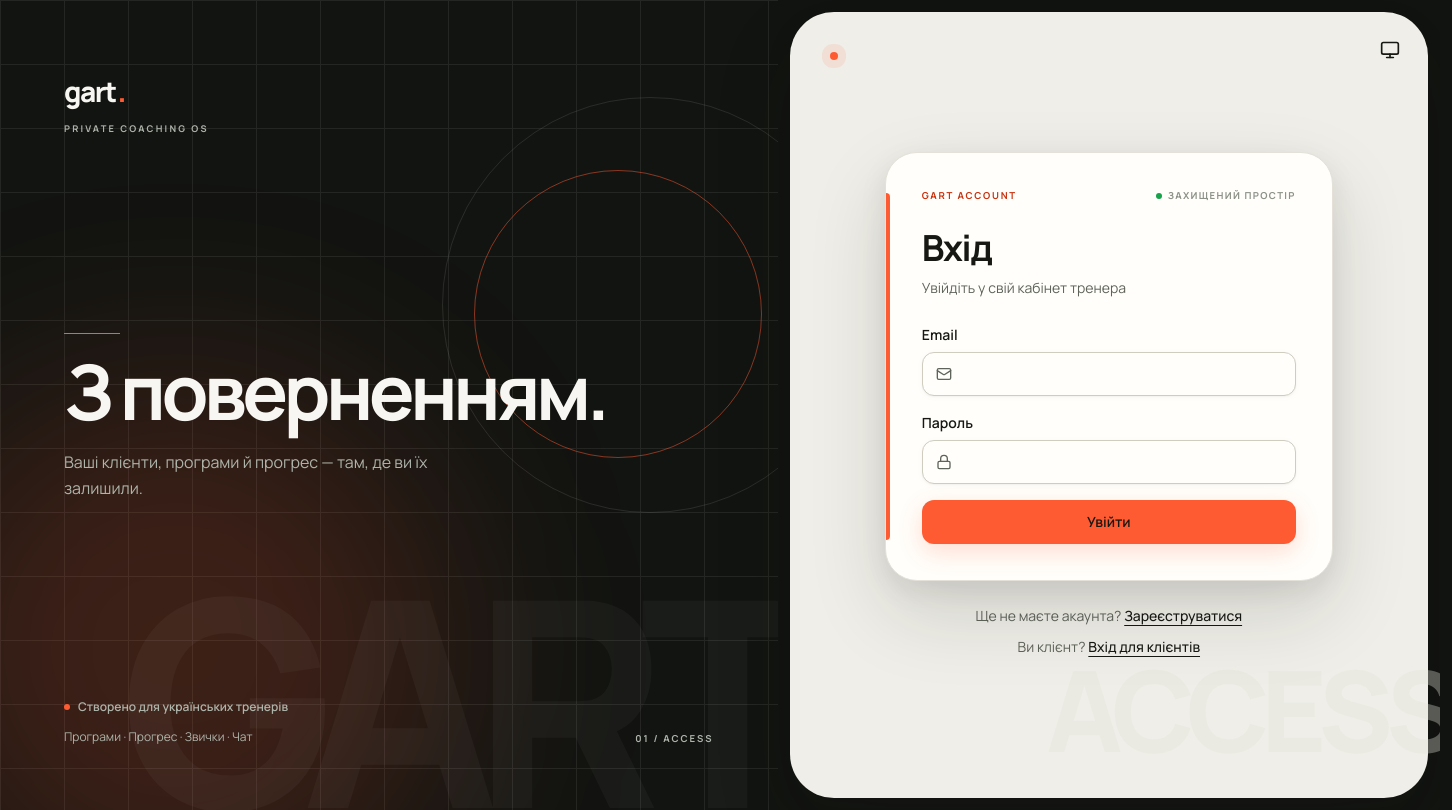
Test case: auth screens › shows the API's own message when the failure is an ApiError
Type "demo@gart.fit" into the field labelled "Email" at (1109, 374), box [922,352,1296,396]
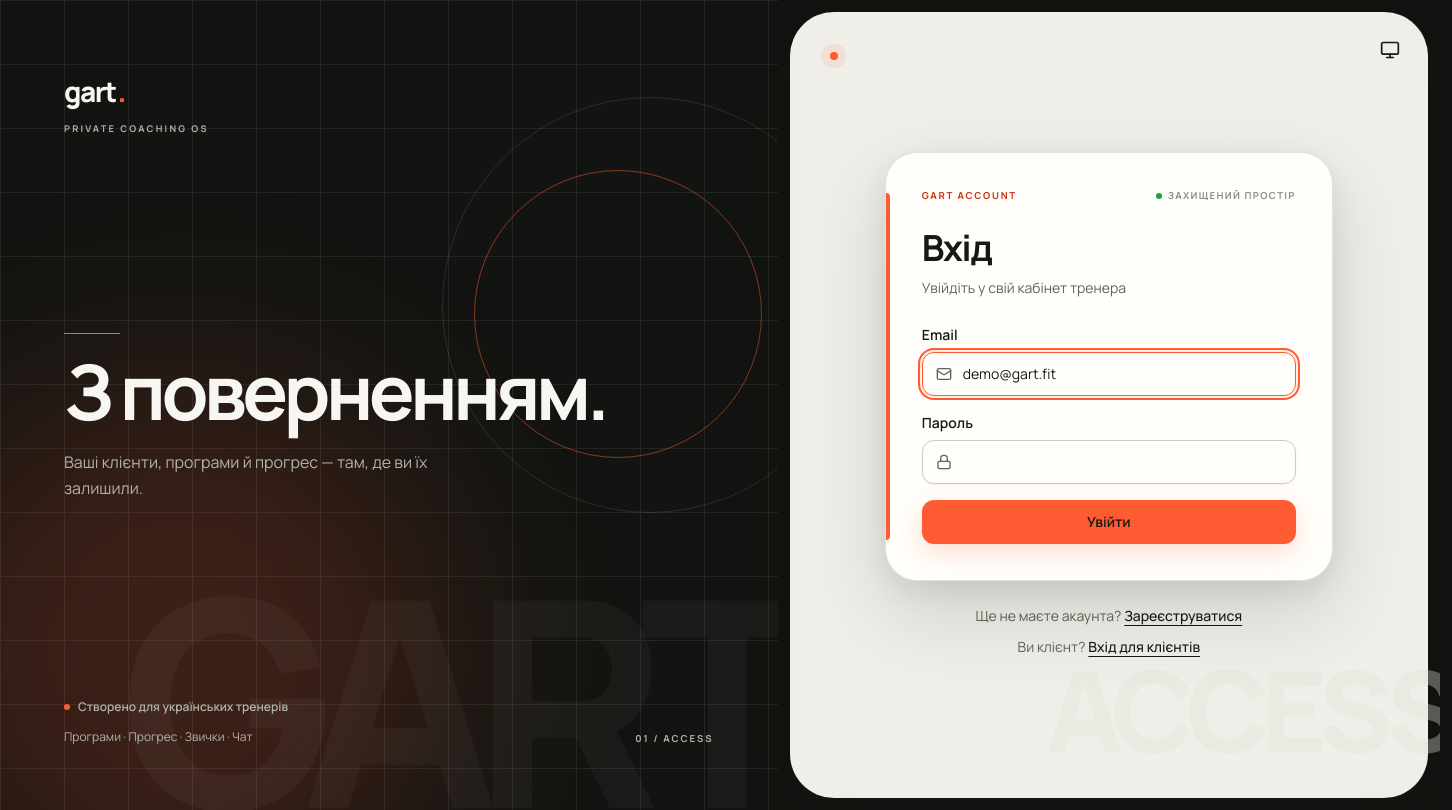
Type "demo12345" into the password field labelled "Пароль" at (1109, 462), box [922,440,1296,484]
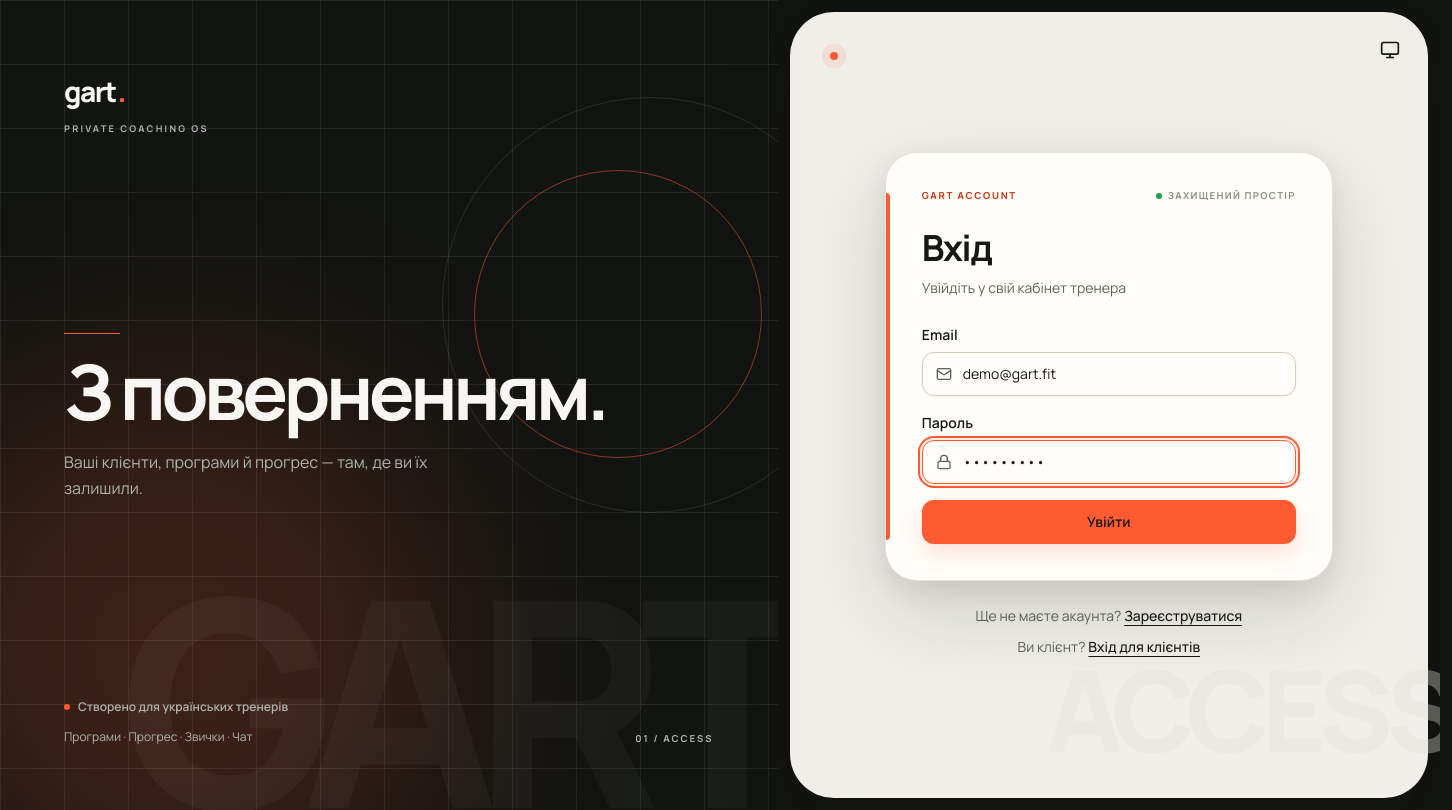
Click the button "Увійти" at (1109, 522), box [922,500,1296,544]
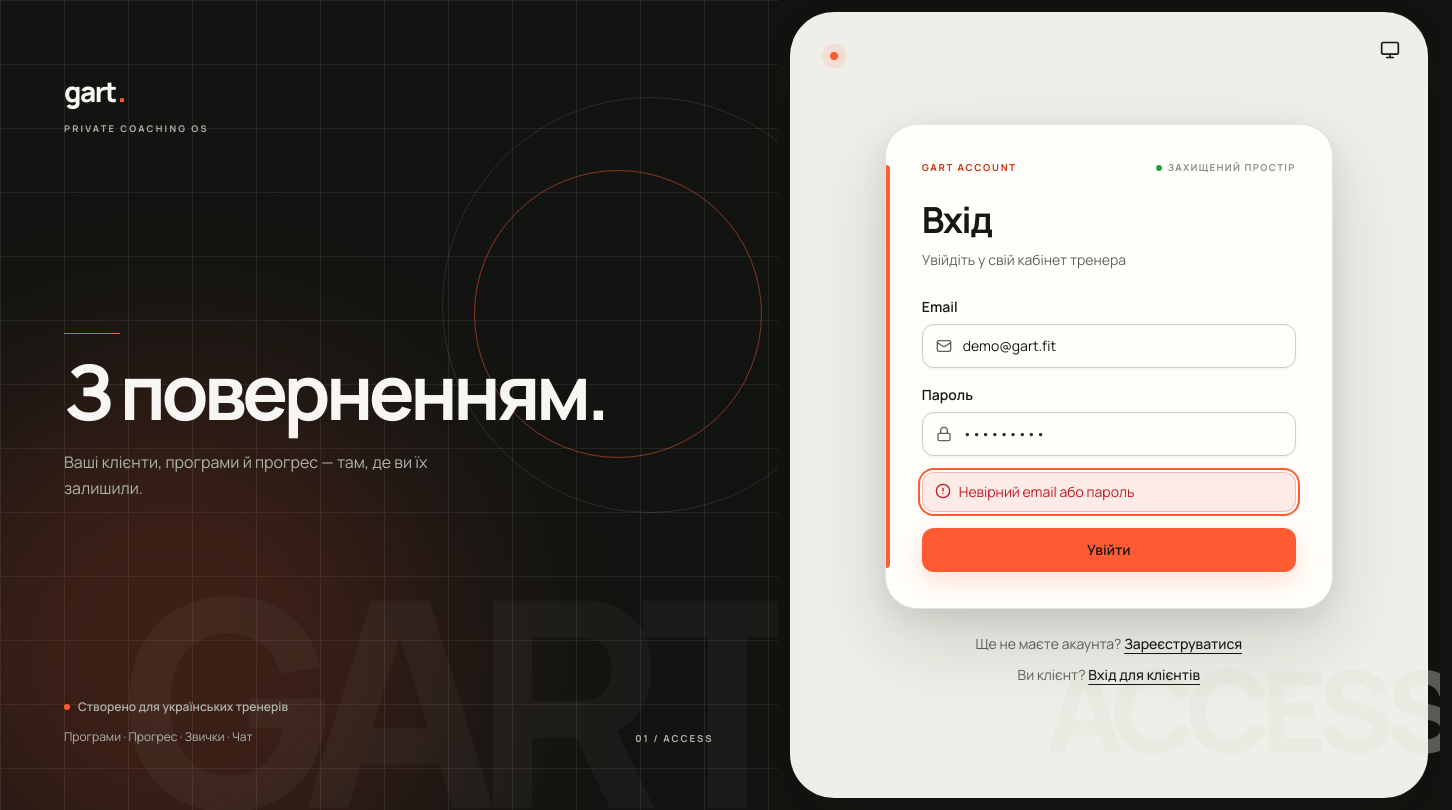
Result: the message reads "Невірний email або пароль" at [959,482,1134,501]
